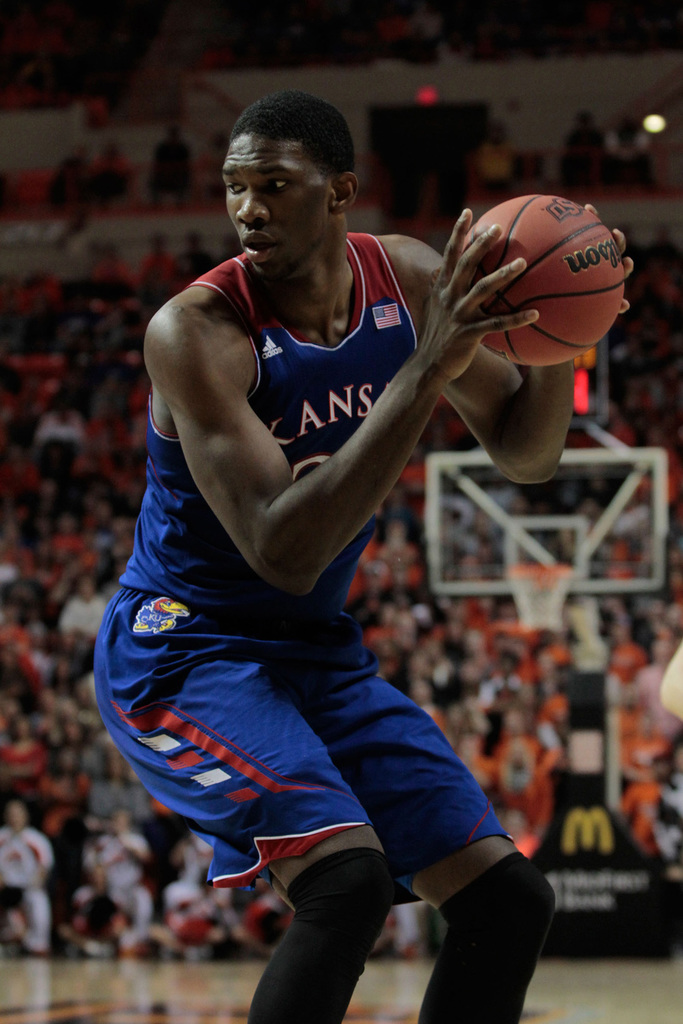Human_hand: (413, 209, 541, 384), (585, 202, 634, 313)
